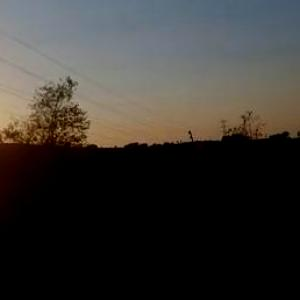follow: (135, 170, 198, 299)
